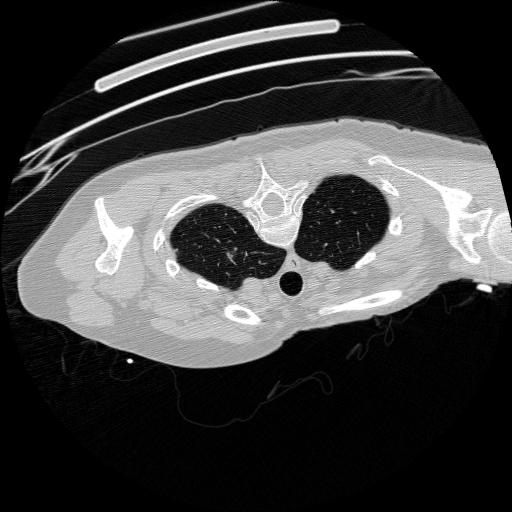nodule: (221, 250, 237, 266)
